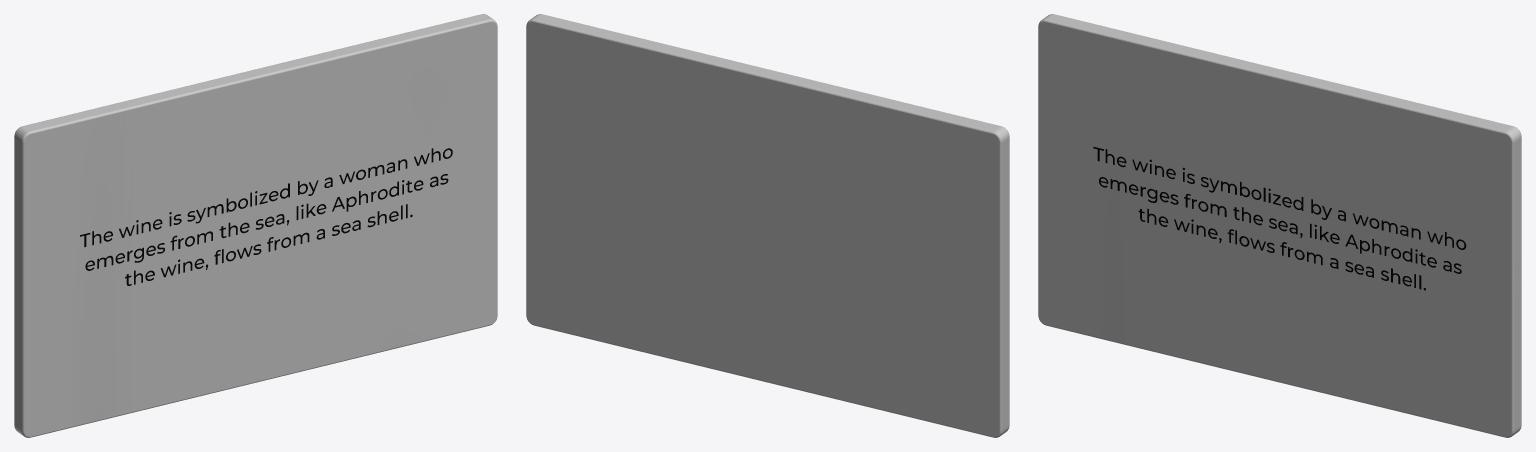
File: Picture6.glb
3 views of the same model, side by side, from view 1: azimuth 30°, elevation 25°; view 2: azimuth 150°, elevation 25°; view 3: azimuth 330°, elevation 25° (orthographic).
Visible parts, largest first — view 1: Text.001; view 2: Text.001; view 3: Text.001.
Part boxes in pixels (x1,y1,x2,y2): Text.001: (14,14,497,437); Text.001: (526,14,1009,437); Text.001: (1038,14,1521,437).
Size of the model in its own units: 1.8 by 1.11 by 0.0653.
Materials: 2 (2 with a texture image).
